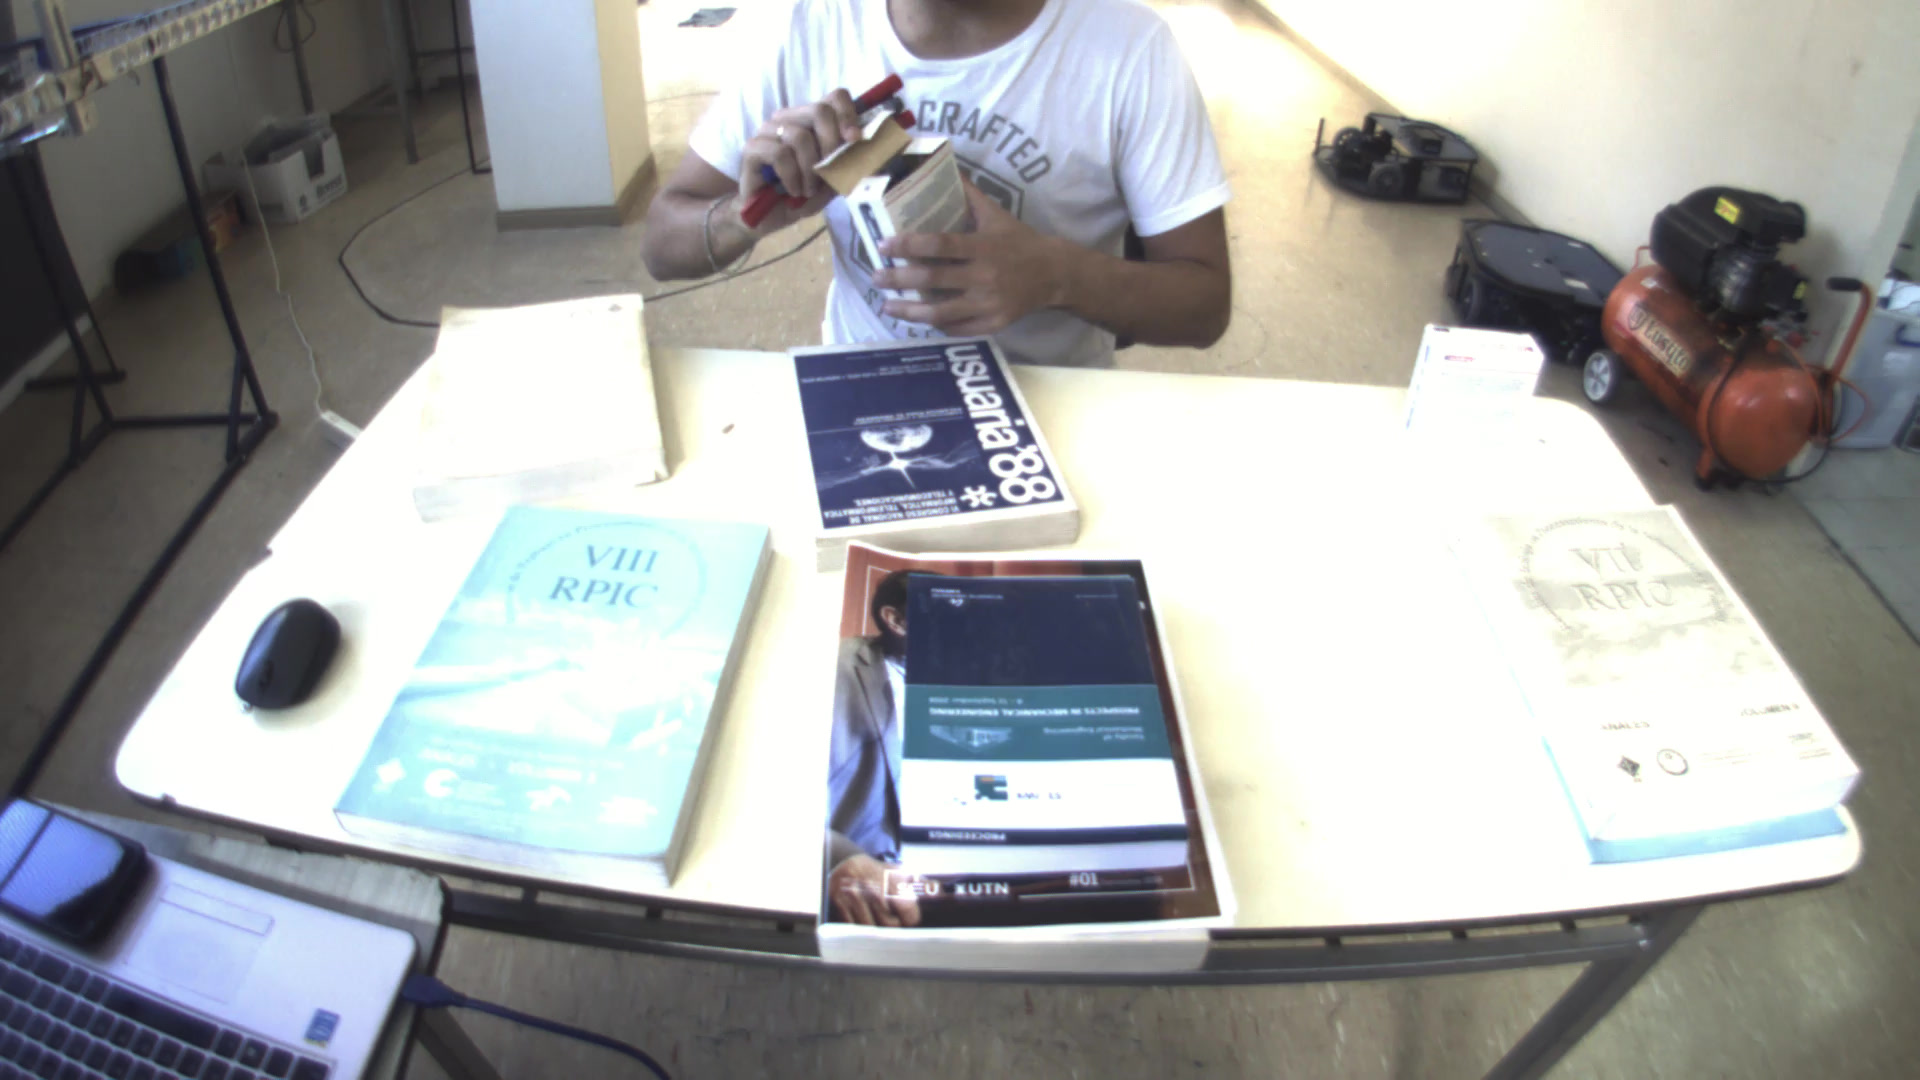hand: (853, 196, 1073, 343), (736, 80, 886, 203)
